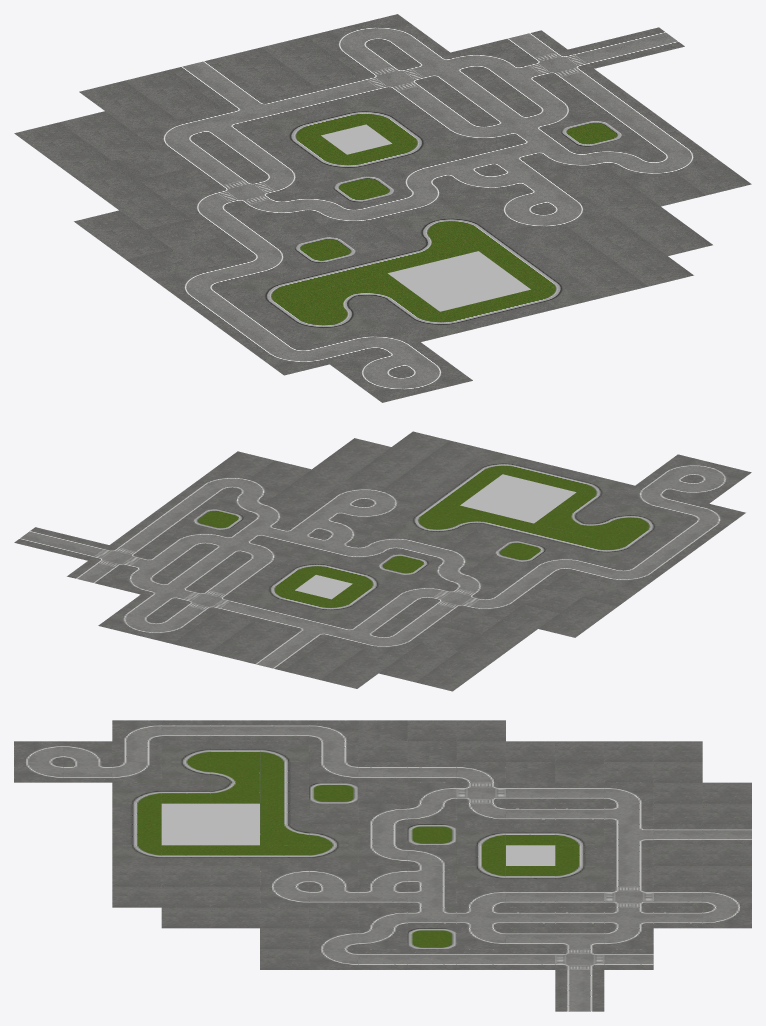
Rendered from CityRoads_TilesetFBX.fbx.
The picture shows the model from 3 angles, top to bottom: view 1: azimuth 30°, elevation 25°; view 2: azimuth 150°, elevation 25°; view 3: azimuth 270°, elevation 25°; orthographic projection. The views are drawn at different scales.
Visible parts, largest first — view 1: CityTilePiece8, CityTilePiece10, CityTilePiece40, CityTilePiece43, CityTilePiece49, CityTilePiece51, CityTilePiece69, CityTilePiece74, CityTilePiece75, CityTilePiece86, CityTilePiece88, CityTilePiece96 (+132 smaller); view 2: CityTilePiece12, CityTilePiece27, CityTilePiece42, CityTilePiece44, CityTilePiece45, CityTilePiece49, CityTilePiece52, CityTilePiece53, CityTilePiece56, CityTilePiece58, CityTilePiece59, CityTilePiece89 (+132 smaller); view 3: CityTilePiece3, CityTilePiece10, CityTilePiece11, CityTilePiece29, CityTilePiece33, CityTilePiece34, CityTilePiece38, CityTilePiece40, CityTilePiece60, CityTilePiece61, CityTilePiece65, CityTilePiece79 (+132 smaller).
Boxes of the visible parts, <box> form: CityTilePiece8: <box>307,25,378,55</box>; CityTilePiece10: <box>450,41,521,71</box>; CityTilePiece40: <box>491,160,562,190</box>; CityTilePiece43: <box>517,179,588,209</box>; CityTilePiece49: <box>347,143,418,173</box>; CityTilePiece51: <box>275,135,346,165</box>; CityTilePiece69: <box>277,315,348,344</box>; CityTilePiece74: <box>217,226,288,256</box>; CityTilePiece75: <box>244,246,315,276</box>; CityTilePiece86: <box>158,138,229,168</box>; CityTilePiece88: <box>177,108,248,138</box>; CityTilePiece96: <box>342,273,413,303</box>; CityTilePiece12: <box>119,594,177,619</box>; CityTilePiece27: <box>338,543,395,567</box>; CityTilePiece42: <box>301,534,358,558</box>; CityTilePiece44: <box>343,503,400,527</box>; CityTilePiece45: <box>365,487,422,511</box>; CityTilePiece49: <box>316,559,373,583</box>; CityTilePiece52: <box>311,599,368,623</box>; CityTilePiece53: <box>353,568,410,592</box>; CityTilePiece56: <box>402,496,459,520</box>; CityTilePiece58: <box>444,465,502,489</box>; CityTilePiece59: <box>380,512,438,536</box>; CityTilePiece89: <box>252,606,309,630</box>; CityTilePiece3: <box>604,886,653,907</box>; CityTilePiece10: <box>604,928,653,949</box>; CityTilePiece11: <box>604,907,653,928</box>; CityTilePiece29: <box>358,824,407,845</box>; CityTilePiece33: <box>358,928,407,949</box>; CityTilePiece34: <box>358,907,407,928</box>; CityTilePiece38: <box>358,803,407,824</box>; CityTilePiece40: <box>358,886,407,907</box>; CityTilePiece60: <box>112,824,161,845</box>; CityTilePiece61: <box>112,782,161,803</box>; CityTilePiece65: <box>112,803,161,824</box>; CityTilePiece79: <box>358,782,407,803</box>.
Bounding box in the file's own units: 42000 × 2.28e-05 × 45000.
